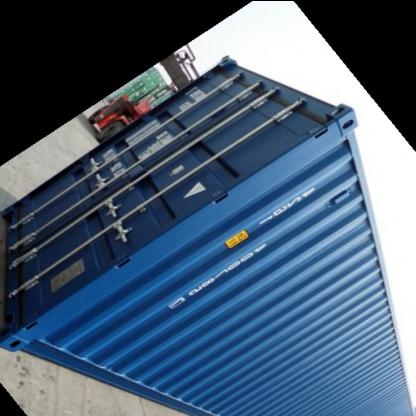Damage: (267, 78, 325, 129)
